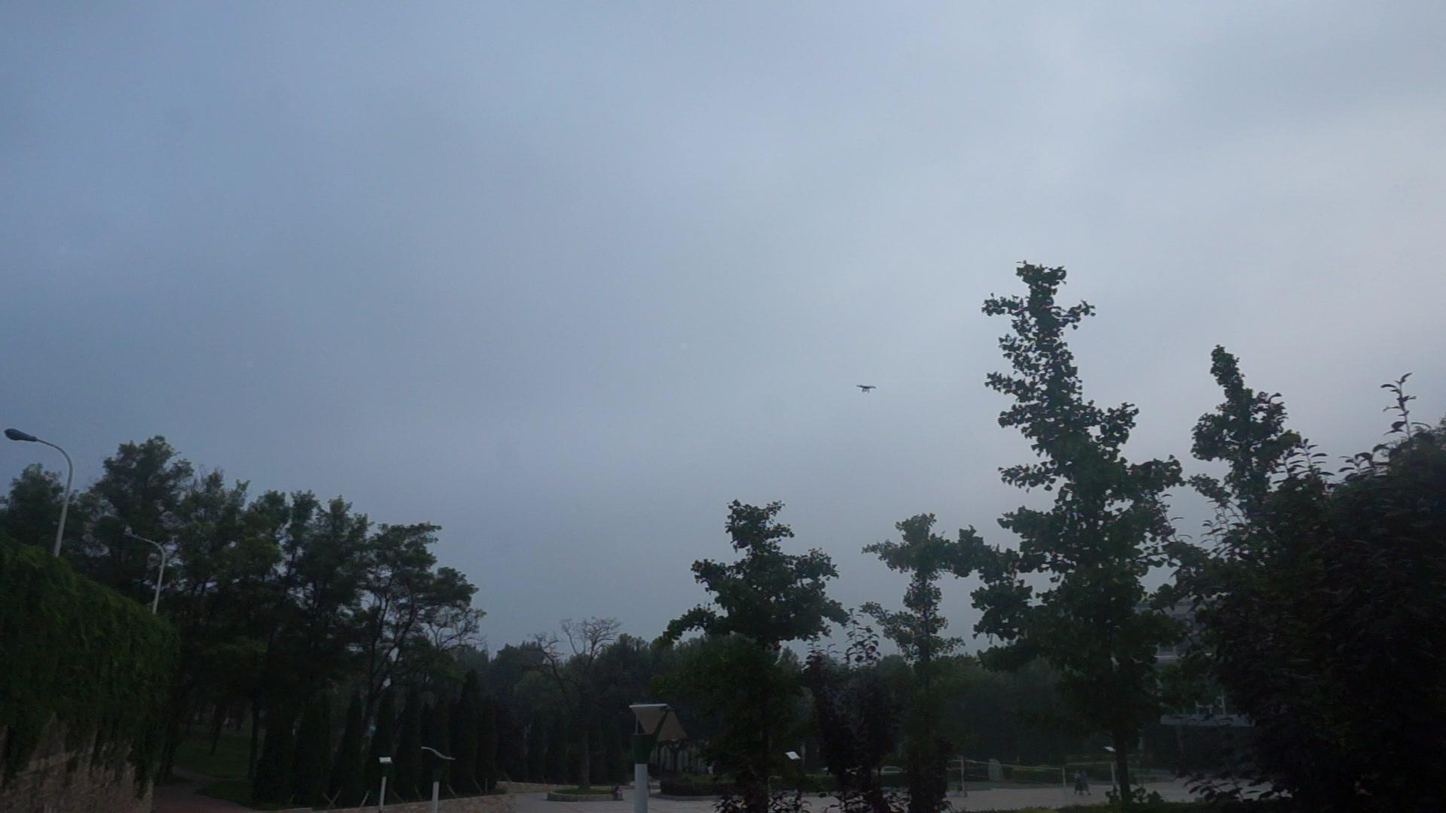UAV: (856, 385, 877, 394)
